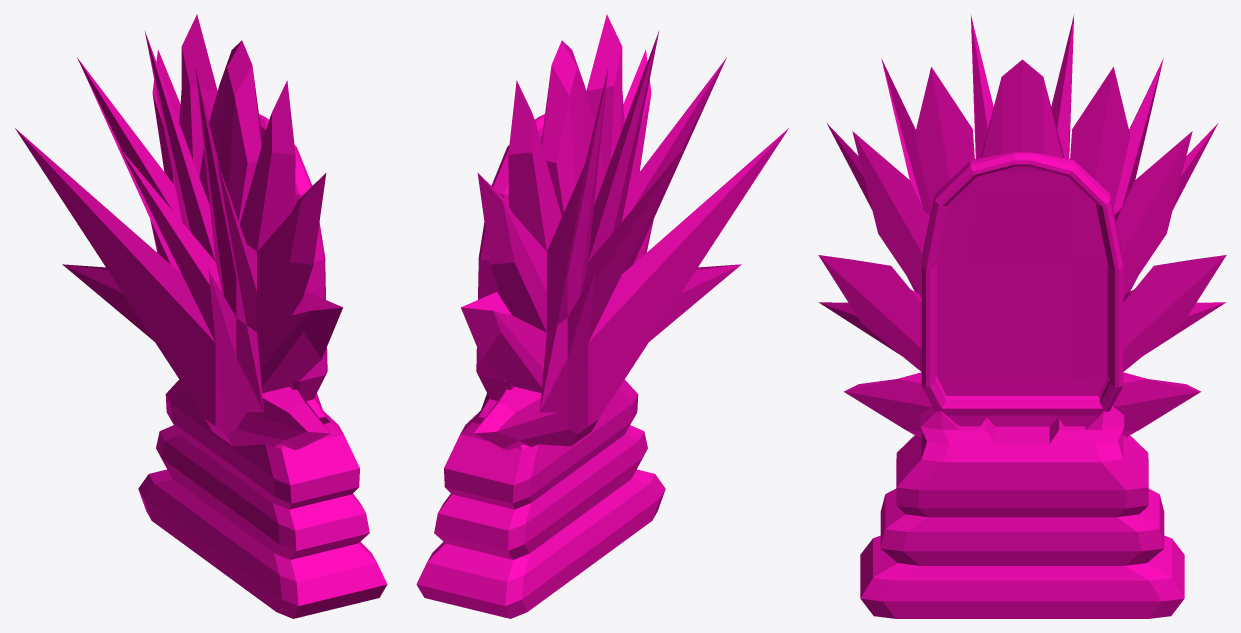
File: LoreTab Cystal.fbx
The picture shows the model from 3 angles, left to right: view 1: azimuth 30°, elevation 25°; view 2: azimuth 150°, elevation 25°; view 3: azimuth 270°, elevation 25°; orthographic projection.
Visible parts, largest first — view 1: Cube.001, BaseCrystal, TabeltCrystal; view 2: Cube.001, BaseCrystal, TabeltCrystal; view 3: BaseCrystal, Cube.001, TabeltCrystal.
Boxes of the visible parts, x1,y1,x2,y2 form: Cube.001: [15, 14, 342, 450]; BaseCrystal: [138, 379, 387, 618]; TabeltCrystal: [259, 114, 327, 400]; Cube.001: [461, 14, 788, 450]; BaseCrystal: [416, 379, 665, 618]; TabeltCrystal: [476, 114, 544, 400]; BaseCrystal: [860, 406, 1184, 618]; Cube.001: [818, 14, 1226, 437]; TabeltCrystal: [921, 152, 1123, 426].
Size of the model in its own units: 126 by 315 by 218.
